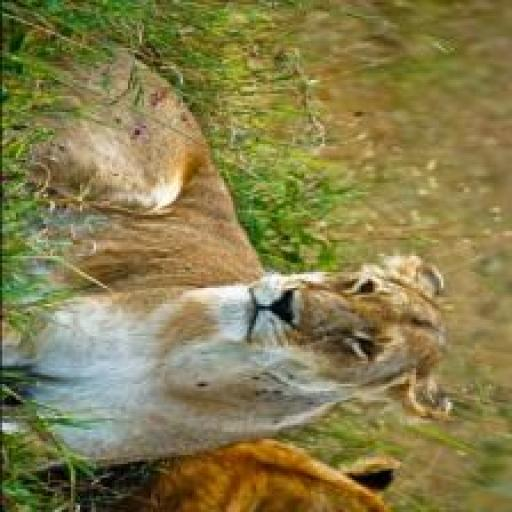lion: (2, 34, 470, 461)
